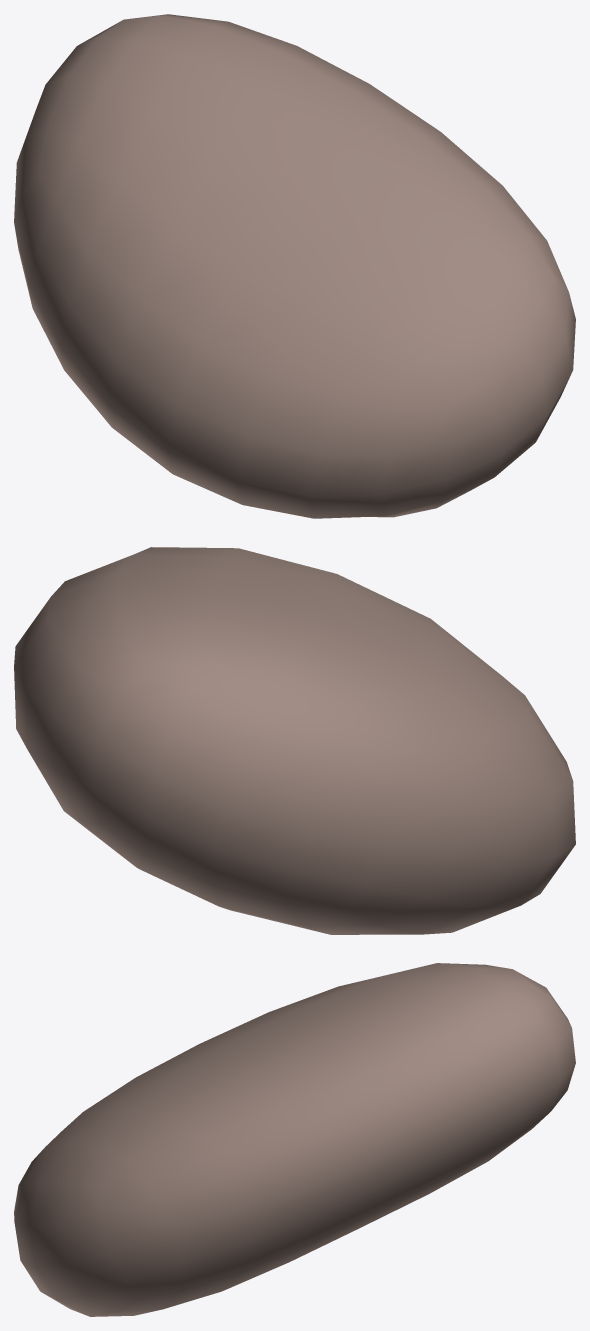
The model's file is Piedra2A.fbx.
The picture shows the model from 3 angles, top to bottom: view 1: azimuth 30°, elevation 25°; view 2: azimuth 150°, elevation 25°; view 3: azimuth 270°, elevation 25°; orthographic projection. The views are drawn at different scales.
Parts seen in each view (by area): view 1: Circle.013; view 2: Circle.013; view 3: Circle.013.
Part boxes in pixels (left/top/right/bottom): Circle.013: left=14, top=14, right=575, bottom=518; Circle.013: left=14, top=547, right=575, bottom=934; Circle.013: left=14, top=963, right=575, bottom=1316.
Bounding box in the file's own units: 277 × 213 × 355.
